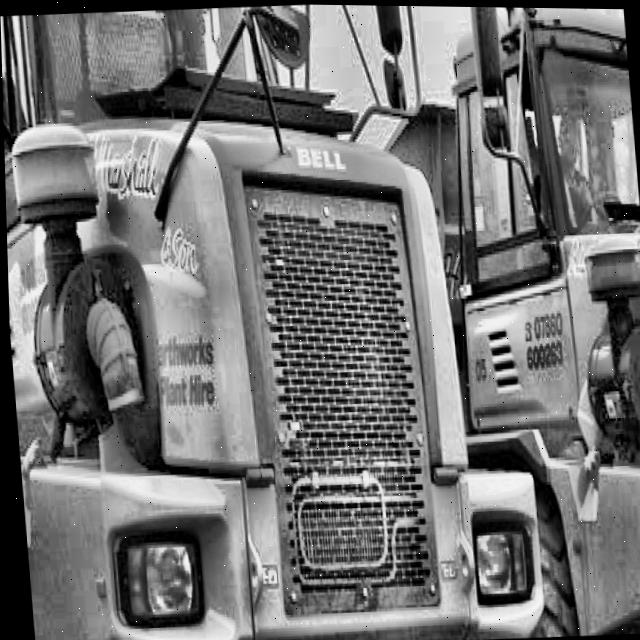dump_truck: (0, 0, 544, 640), (465, 5, 640, 638)
